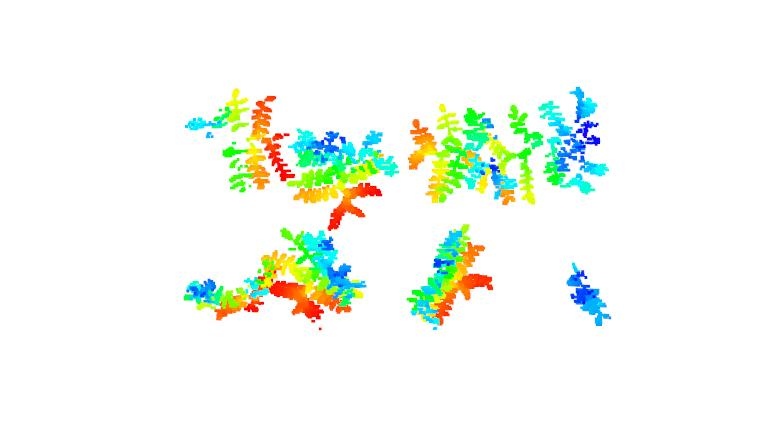chickpea: (486, 85, 610, 206), (185, 87, 296, 193), (290, 122, 402, 226), (407, 221, 495, 328), (269, 227, 367, 321), (405, 103, 491, 198), (181, 261, 275, 322), (565, 261, 614, 330)
